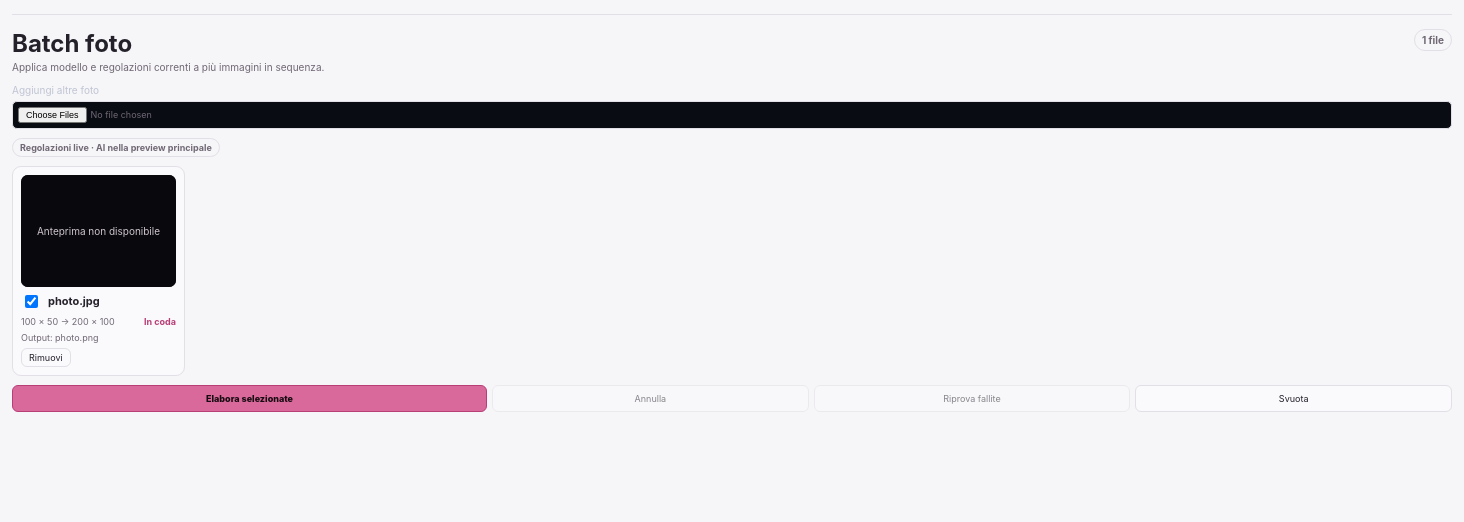
Test case: UpscalerBatchPanel › reports a non-abort destination error without replacing the current sink
Step 1. Click the button "Elabora selezionate" → (250, 398), box x1=12 y1=384 x2=487 y2=412
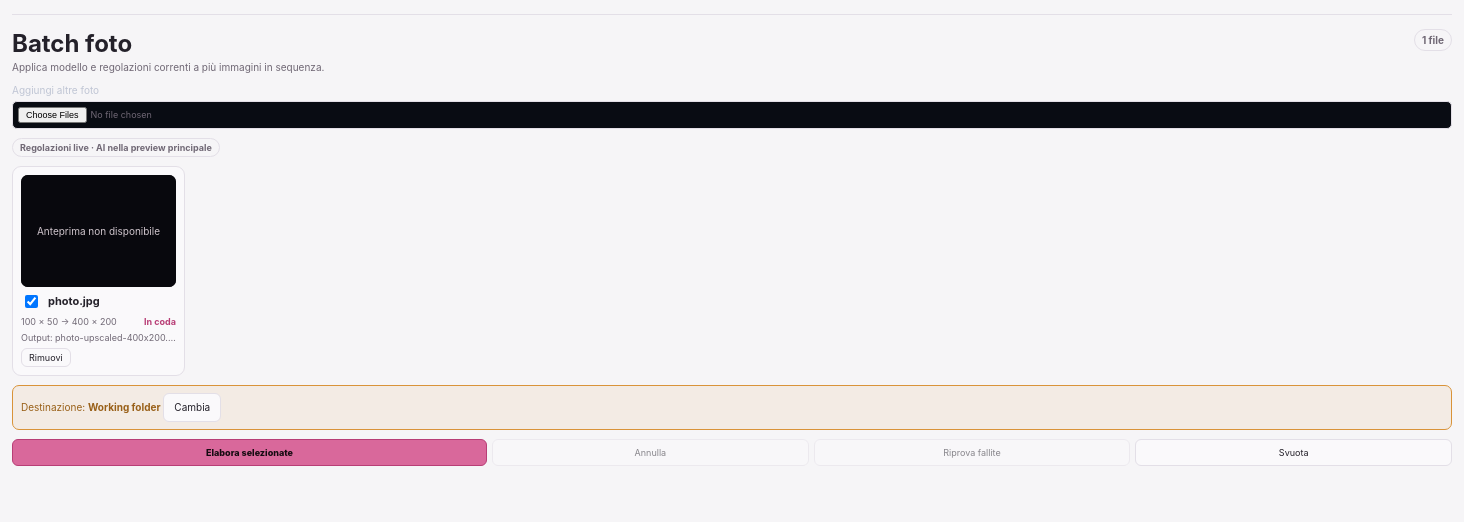
Check: the text "Working folder" is shown, box x1=88 y1=400 x2=160 y2=412
Step 2. Click the button "Cambia" → (192, 407), box x1=163 y1=392 x2=221 y2=422
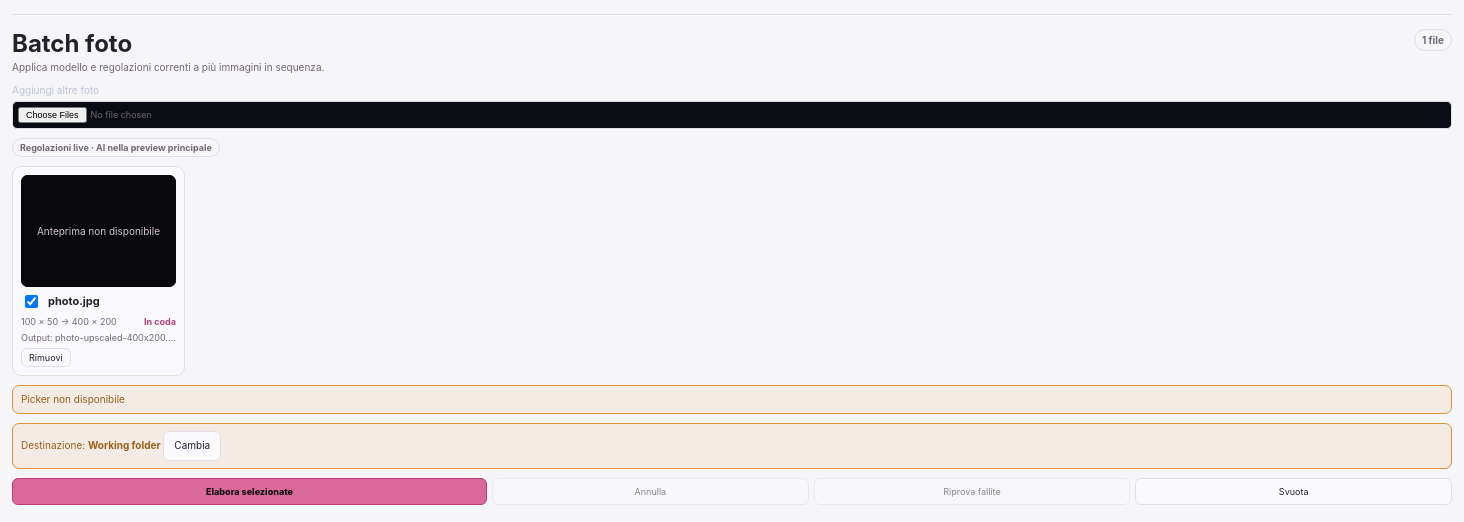
Check: the text "Working folder" is shown, box x1=88 y1=439 x2=160 y2=451
Check: the message reads "Picker non disponibile", box x1=21 y1=392 x2=125 y2=404
